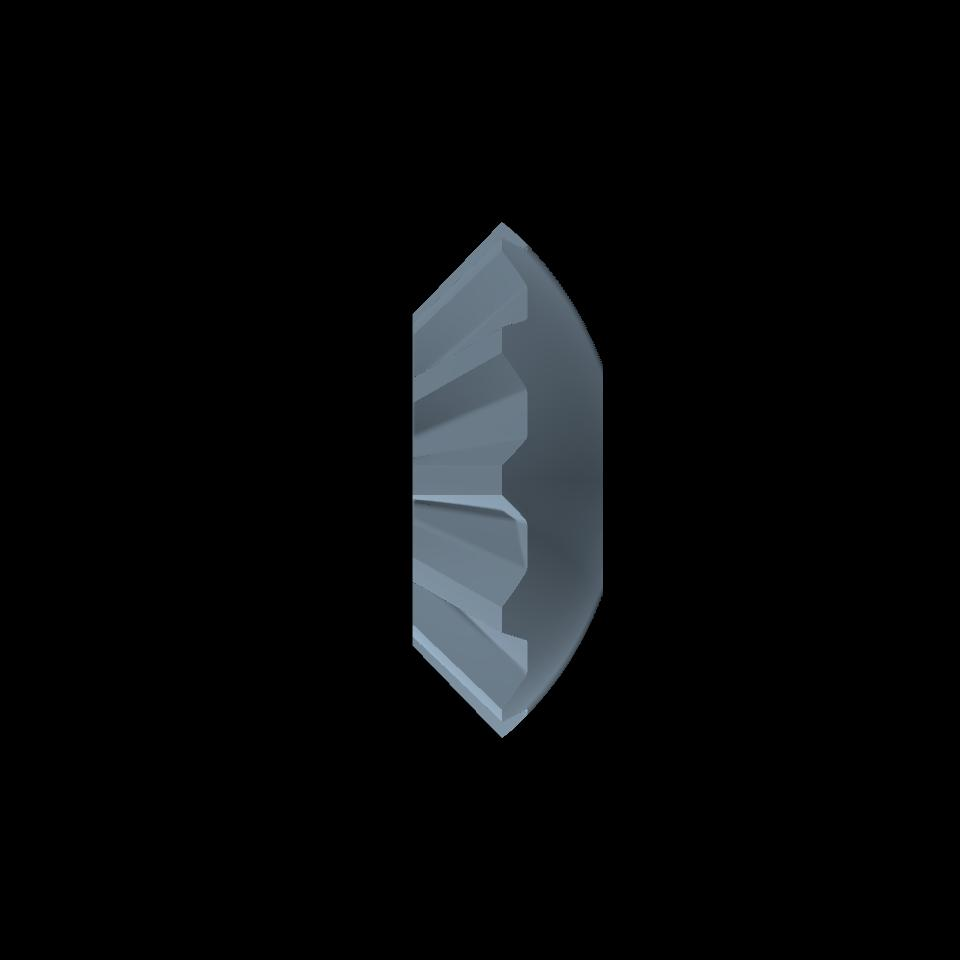Bevel: (413, 221, 602, 736)
